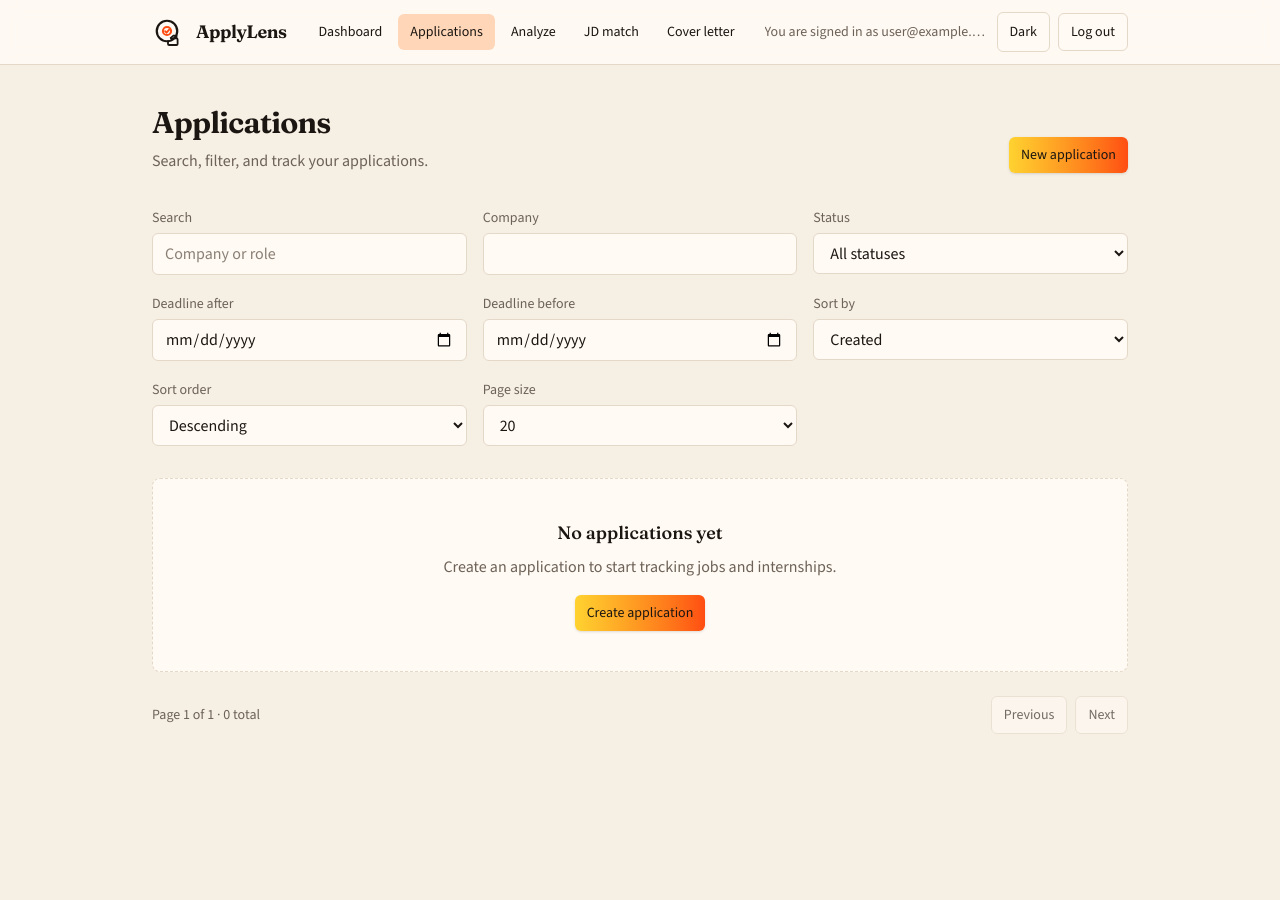
Scenario: applications list › sends search to the backend after debounce
Check: the heading "Applications" is shown, box [152,104,330,141]
Type "Acme" into the field labelled "Search" at point(309, 254), box [152,233,467,275]
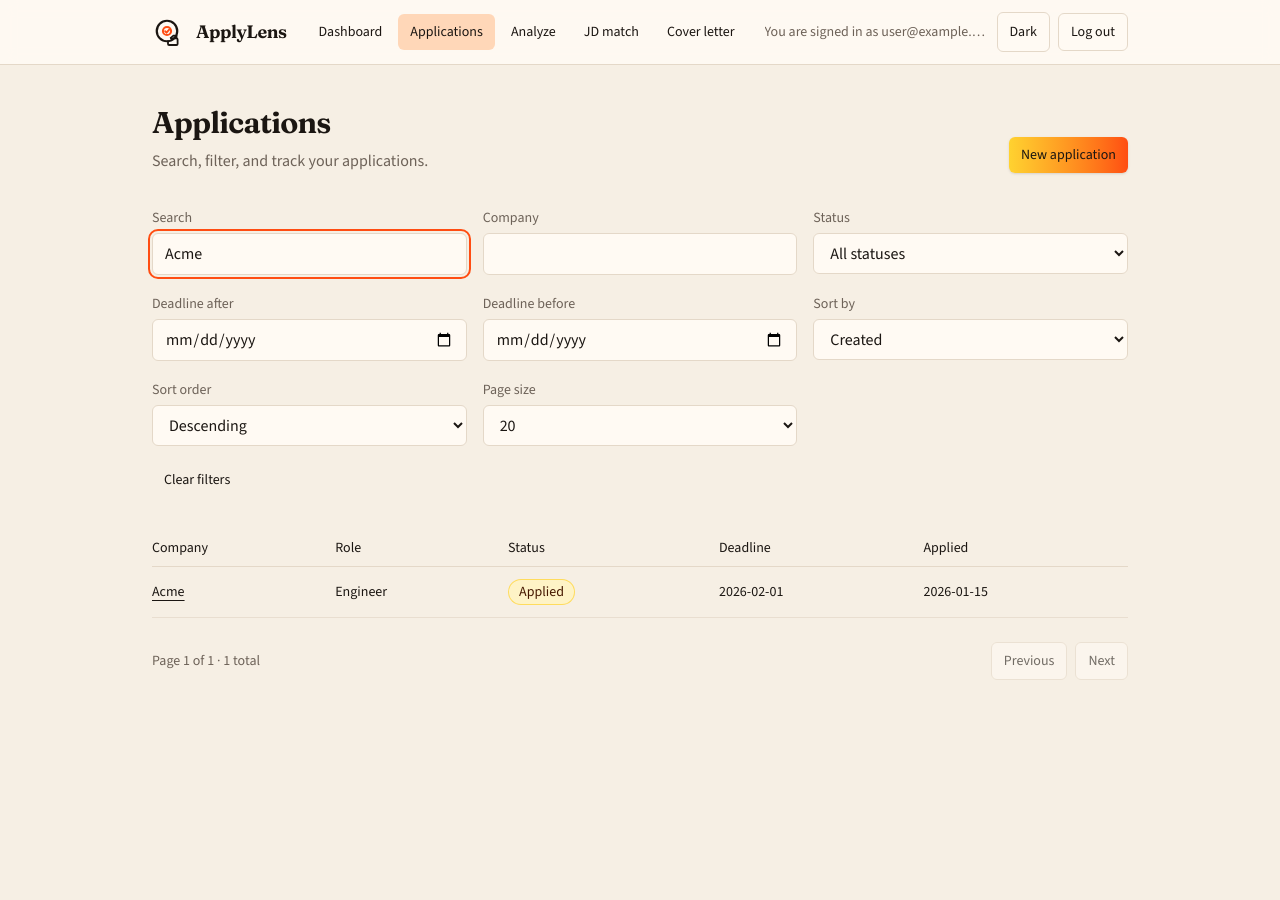
Check: the link "Acme" is shown, box [152,582,185,601]
